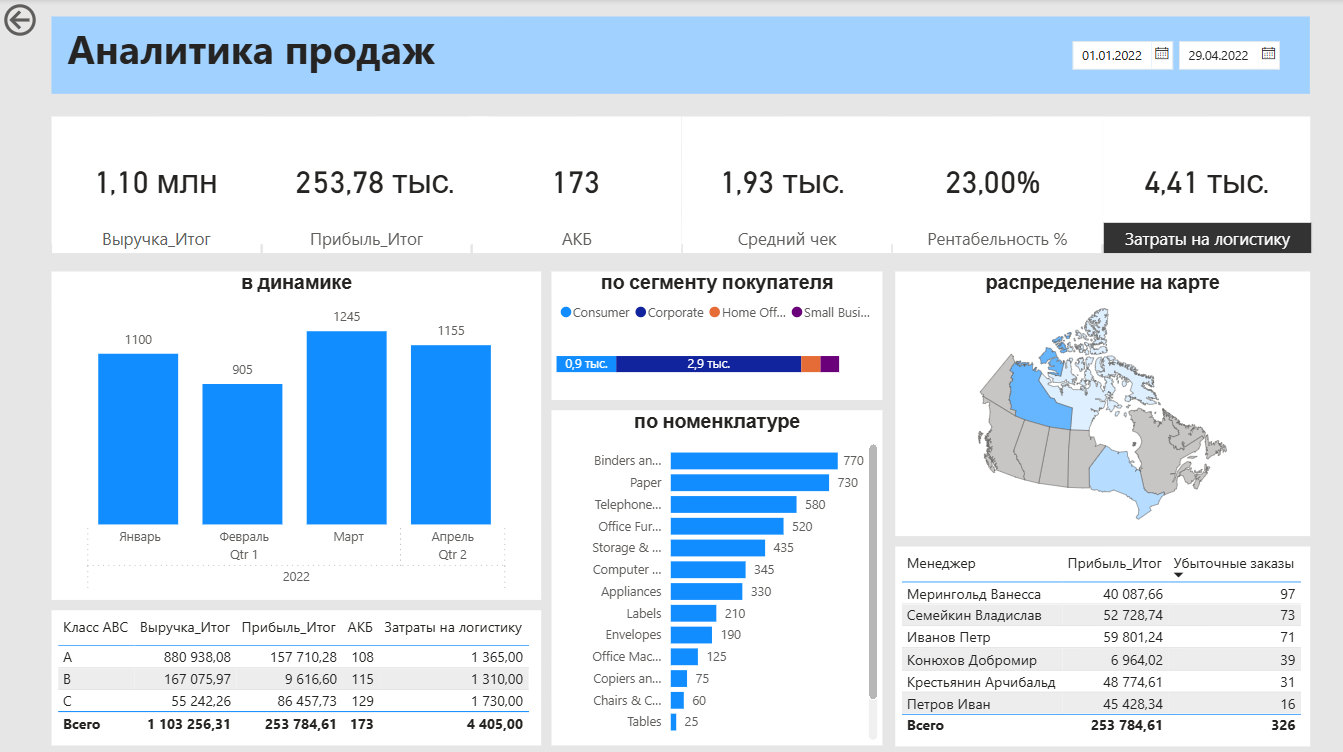

This screenshot's page, from the dashboard's own definition file:
{"tool":"powerbi","page":{"name":"Страница 1","canvas":[1280,720],"ordinal":0},"visuals":[{"type":"card","fields":{"Values":["Продажи.Выручка_Итог"]},"box":[50,111.9,198.8,121.4],"z":0},{"type":"card","fields":{"Values":["Продажи.Прибыль_Итог"]},"box":[248.8,111.9,217.9,121.4],"z":1000},{"type":"card","fields":{"Values":["Продажи.АКБ"]},"box":[448.8,111.9,201.2,121.4],"z":2000},{"type":"card","fields":{"Values":["Продажи.Средний чек"]},"box":[650,111.9,191.7,121.4],"z":3000},{"type":"card","fields":{"Values":["Продажи.Рентабельность %"]},"box":[841.7,111.9,209.5,121.4],"z":4000},{"type":"card","fields":{"Values":["Продажи.Затраты на логистику"]},"box":[1051.2,111.9,197.6,121.4],"z":5000},{"type":"columnChart","title":"в динамике","fields":{"Y":["Продажи.Рентабельность %"],"Category":["Календарь.Date.Изменение.Иерархия дат.Год","Календарь.Date.Изменение.Иерархия дат.Квартал","Календарь.Date.Изменение.Иерархия дат.Месяц"]},"box":[50,259.5,466.7,313.1],"z":6000},{"type":"barChart","title":"по сегменту покупателя","fields":{"Y":["Продажи.Рентабельность %"],"Series":["СПР_покупатели.Сегмент покупателя"]},"box":[526.2,259.5,315.5,122.6],"z":7000},{"type":"clusteredBarChart","title":"по номенклатуре","fields":{"Y":["Продажи.Рентабельность %"],"Category":["СПР_продукты.Категория продукта","СПР_продукты.Подкатегория продукта","СПР_продукты.Продукт"]},"box":[526.2,391.7,315.5,319],"z":8000},{"type":"actionButton","box":[0,0,100,40],"z":9000},{"type":"shapeMap","title":"распределение на карте","fields":{"Value":["Продажи.Рентабельность %"],"Category":["Продажи.Регион"]},"box":[853.6,259.5,395.2,252.4],"z":10000},{"type":"textbox","box":[50,16.2,1198.8,73.8],"z":11000},{"type":"slicer","fields":{"Values":["Календарь.Date"]},"box":[1010,30,226.2,47.5],"z":12000},{"type":"tableEx","fields":{"Values":["СПР_Менеджеры.Менеджер","Продажи.Прибыль_Итог","Продажи.Убыточные заказы"]},"box":[853.8,521.2,395,190],"z":13000},{"type":"tableEx","fields":{"Values":["СПР_продукты.Класс ABC","Продажи.Выручка_Итог","Продажи.Прибыль_Итог","Продажи.АКБ","Продажи.Затраты на логистику"]},"box":[50,582.5,466.2,128.8],"z":14000},{"type":"slicer","fields":{"Values":["Выбор метки.Выбор метки"]},"box":[29.8,206,1239.3,36.9],"z":15000}]}

Visuals, with their boxes in screenshot pixels (x1, y1, x2, y2), scaled from the page's 1280x720 canvas onto the 1343x752 screenshot:
card - Продажи.Выручка_Итог: select_region(52, 117, 261, 244)
card - Продажи.Прибыль_Итог: select_region(261, 117, 490, 244)
card - Продажи.АКБ: select_region(471, 117, 682, 244)
card - Продажи.Средний чек: select_region(682, 117, 883, 244)
card - Продажи.Рентабельность %: select_region(883, 117, 1103, 244)
card - Продажи.Затраты на логистику: select_region(1103, 117, 1310, 244)
"в динамике" columnChart: select_region(52, 271, 542, 598)
"по сегменту покупателя" barChart: select_region(552, 271, 883, 399)
"по номенклатуре" clusteredBarChart: select_region(552, 409, 883, 742)
actionButton: select_region(0, 0, 105, 42)
"распределение на карте" shapeMap: select_region(896, 271, 1310, 535)
textbox: select_region(52, 17, 1310, 94)
slicer - Календарь.Date: select_region(1060, 31, 1297, 81)
tableEx - СПР_Менеджеры.Менеджер x Продажи.Прибыль_Итог: select_region(896, 544, 1310, 743)
tableEx - СПР_продукты.Класс ABC x Продажи.Выручка_Итог: select_region(52, 608, 542, 743)
slicer - Выбор метки.Выбор метки: select_region(31, 215, 1332, 254)
